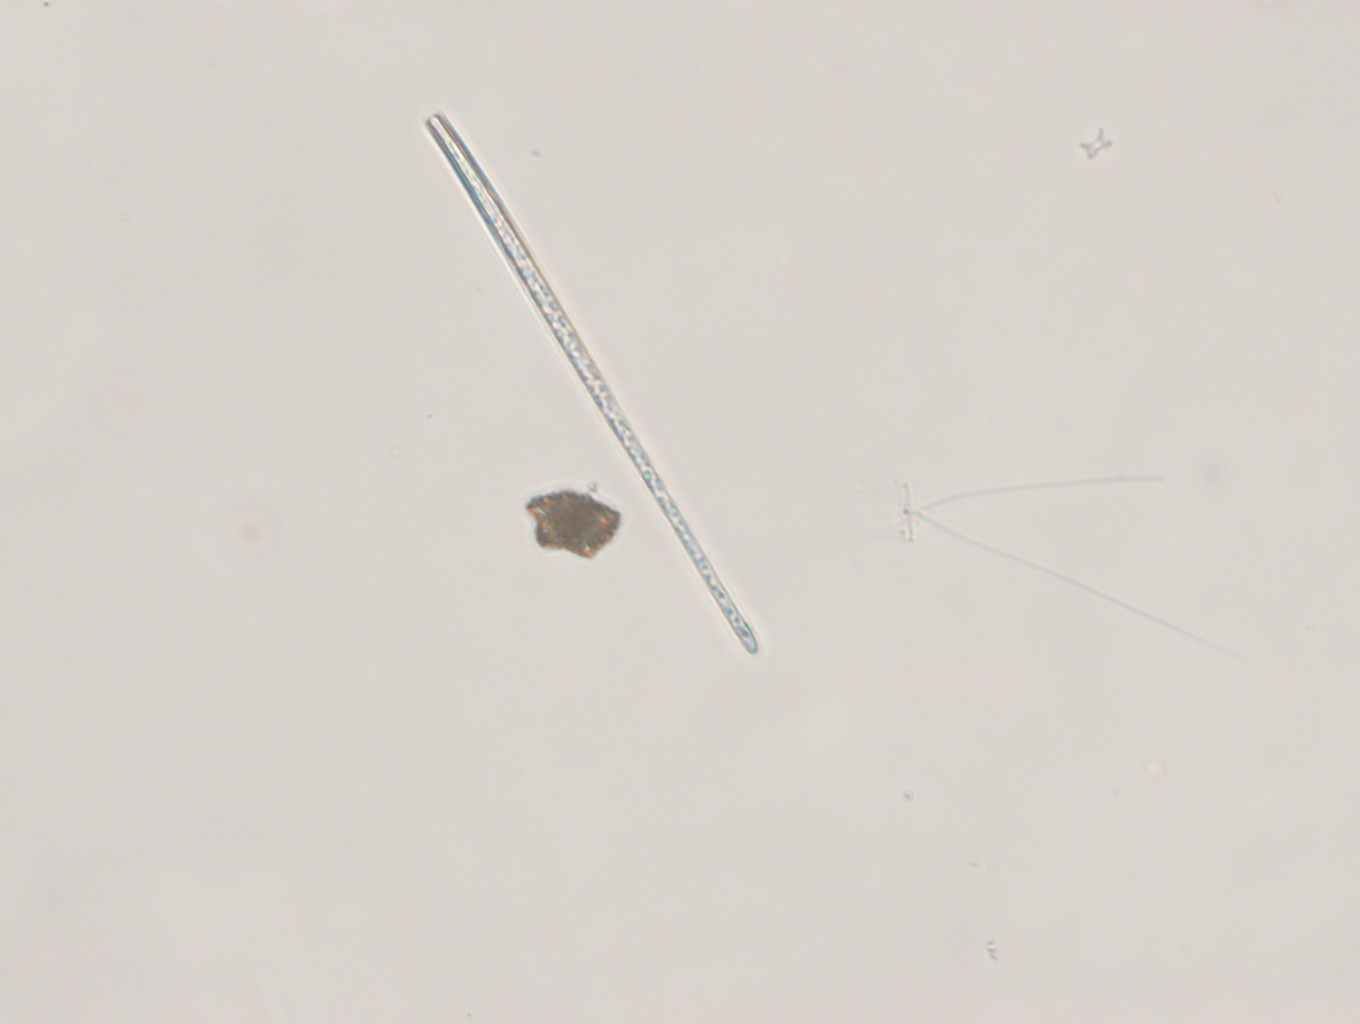thalassionema frauenfeldii: (417, 106, 778, 670)
